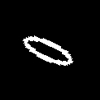chain: (23, 36, 72, 64)
